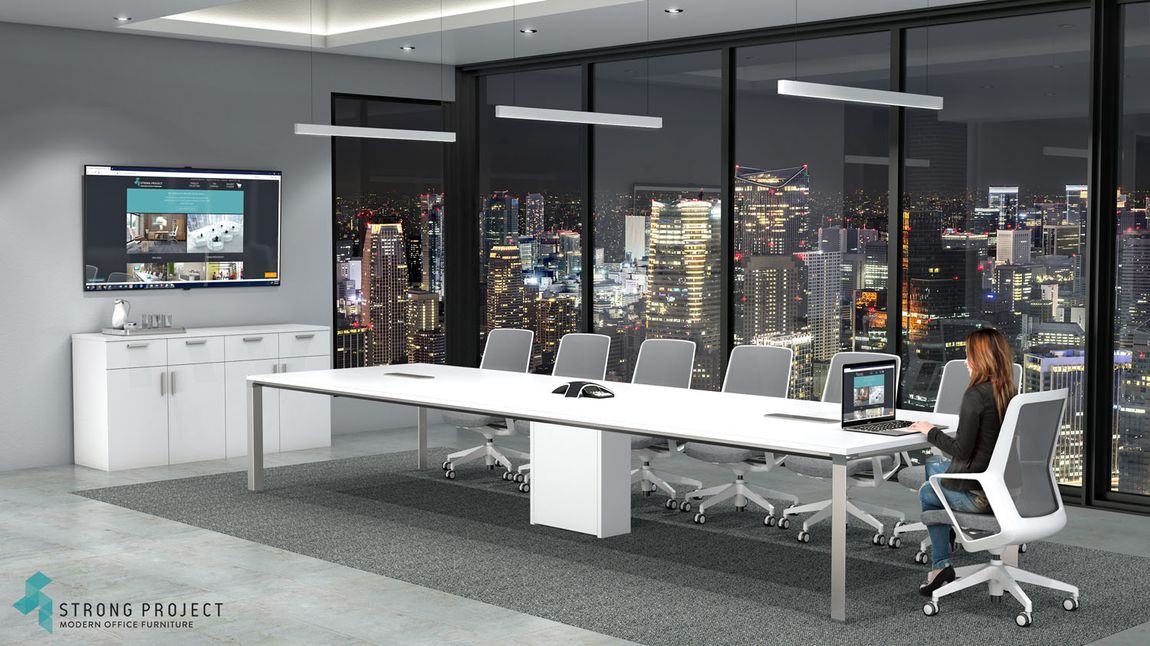conference_table: (245, 363, 961, 627)
